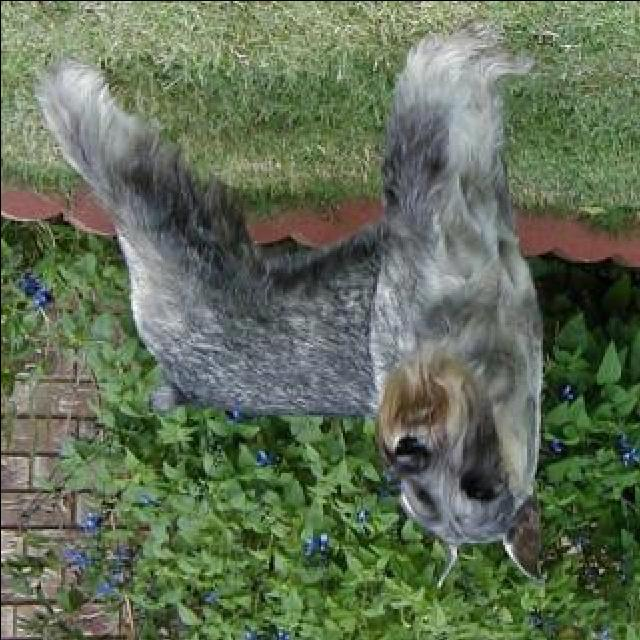standard_schnauzer: (36, 26, 548, 588)
